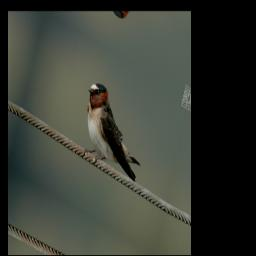Swallow: (72, 73, 154, 188)
